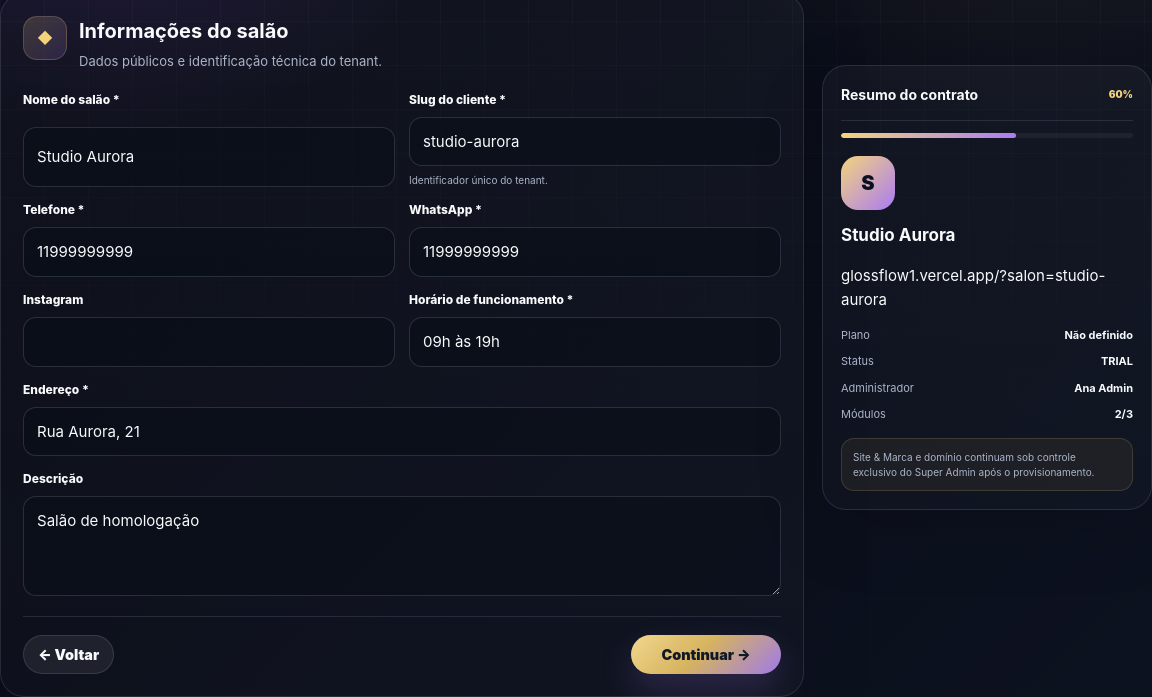
Test: SaasProvisioningWizard › não permite avançar do contrato sem plano ativo selecionado
(page scrolled)
Click the button "Continuar →".
click(706, 655)  # box [631, 635, 781, 674]
(page scrolled)
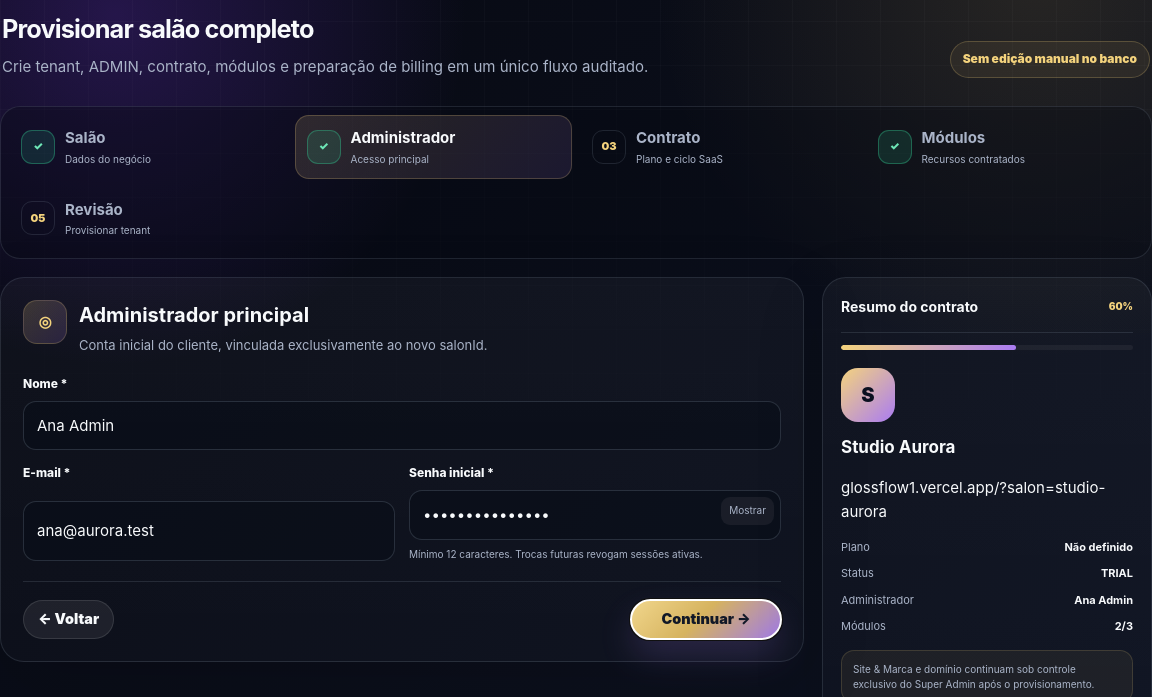
Click the button "Continuar →".
click(706, 620)  # box [631, 600, 781, 639]
(page scrolled)
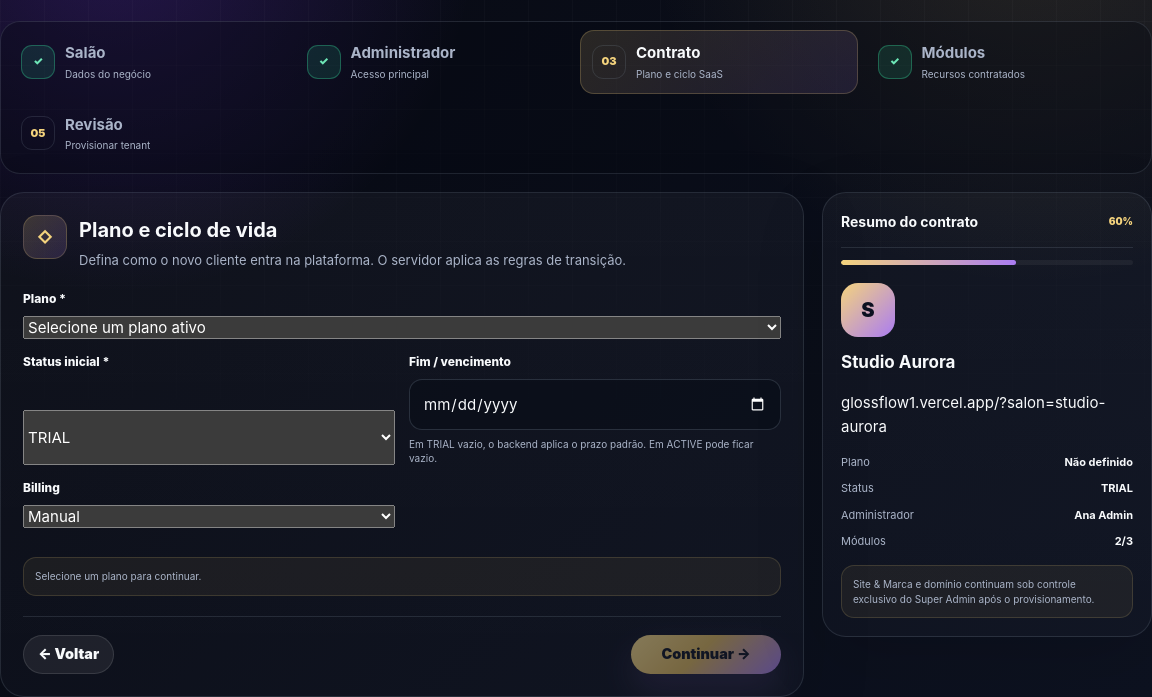
Check: the heading "Plano e ciclo de vida" is shown, box [79, 218, 277, 242]
Check: the button "Continuar →" is disabled, box [631, 635, 781, 674]
